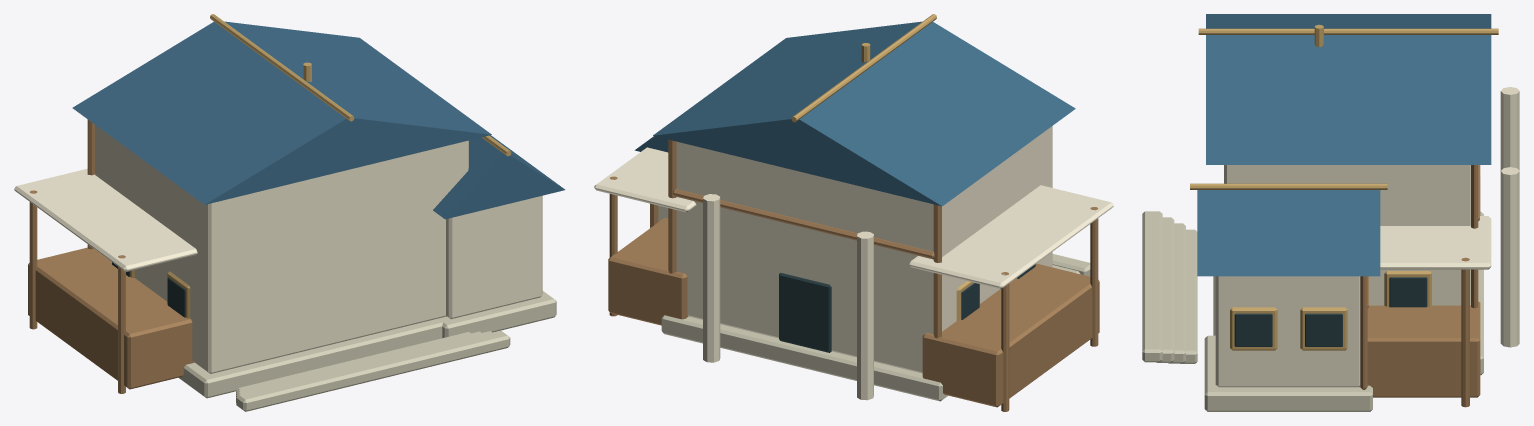
Rendered from level_30.glb.
3 renders of one model, left to right at view 1: azimuth 30°, elevation 25°; view 2: azimuth 150°, elevation 25°; view 3: azimuth 270°, elevation 25°, orthographic. The views are drawn at different scales.
Parts seen in each view (by area): view 1: market — level 30; view 2: market — level 30; view 3: market — level 30.
Part boxes in pixels (x1,y1,x2,y2): market — level 30: [14, 14, 565, 411]; market — level 30: [594, 14, 1113, 411]; market — level 30: [1142, 14, 1519, 411].
Size of the model in its own units: 7.08 by 4.26 by 5.16.
